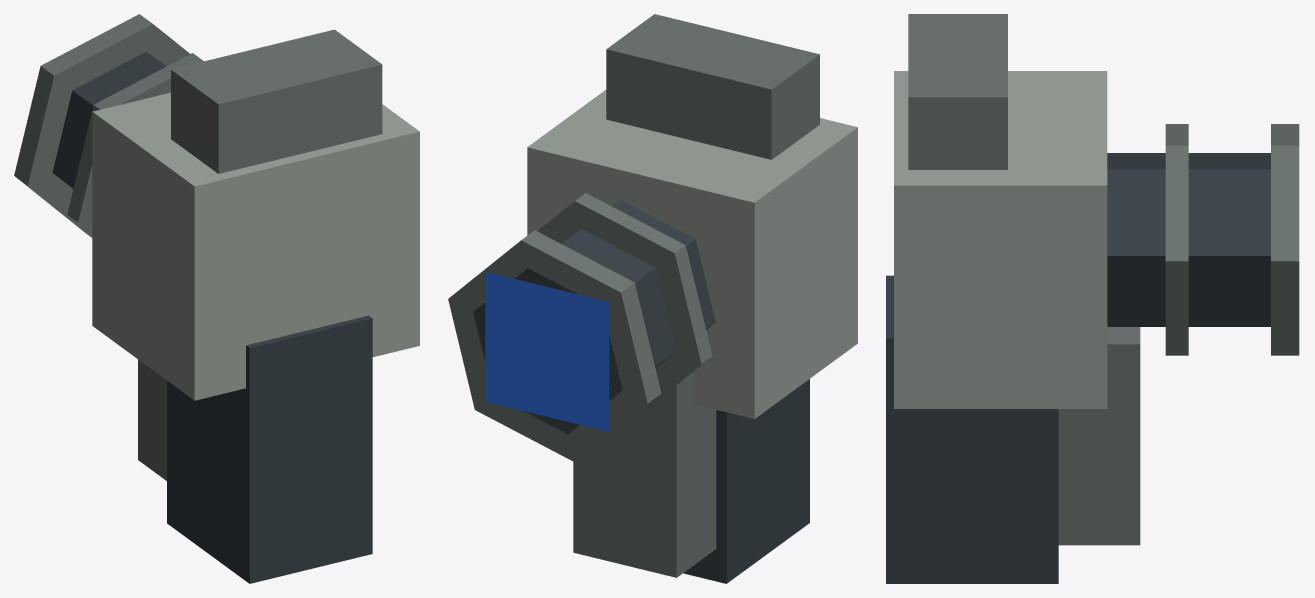
The picture shows the model from 3 angles, left to right: view 1: azimuth 30°, elevation 25°; view 2: azimuth 150°, elevation 25°; view 3: azimuth 270°, elevation 25°; orthographic projection. The views are drawn at different scales.
Parts seen in each view (by area): view 1: mount; view 2: mount; view 3: mount.
Part boxes in pixels (x1=…): mount: x1=14, y1=14, x2=419, y2=583; mount: x1=448, y1=14, x2=857, y2=583; mount: x1=886, y1=14, x2=1299, y2=583.
Size of the model in its own units: 5.72 by 11.57 by 8.75.
